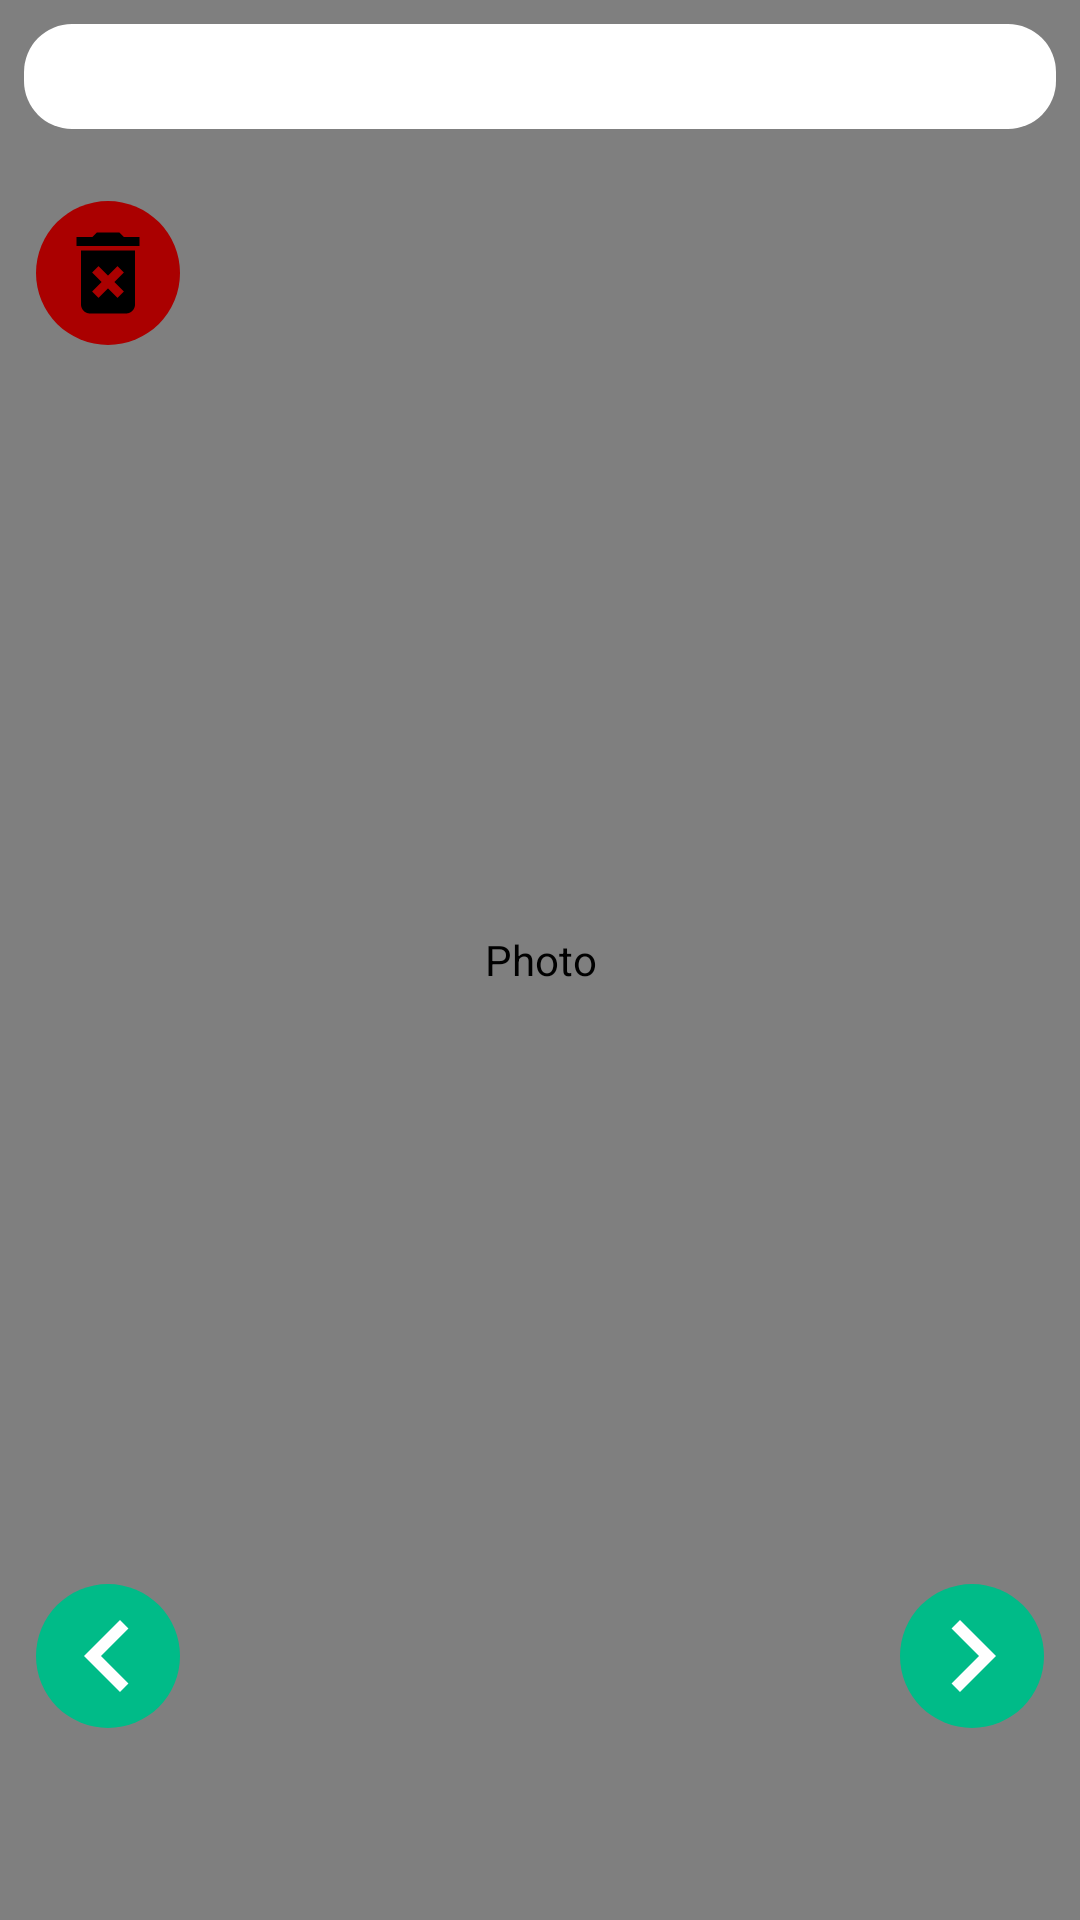

Named icons in this screenshot (1080x1920) and their centers, (x=x, y=y):
Delete: (x=108, y=273)
Next: (x=972, y=1656)
Previous: (x=108, y=1656)
